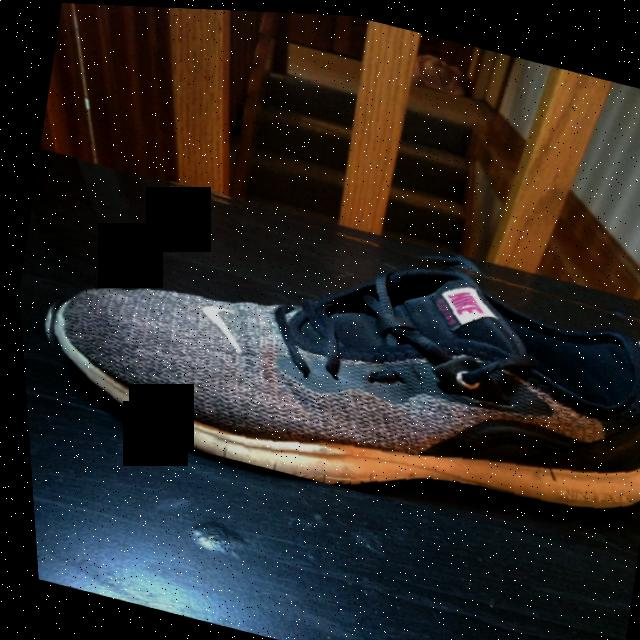shoe: (9, 150, 640, 557)
